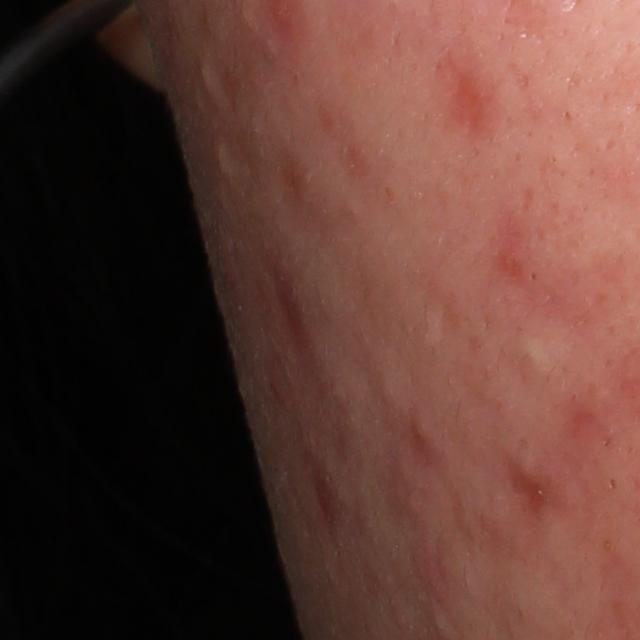comedo: (507, 327, 560, 386), (195, 64, 215, 94), (600, 470, 622, 497)
papule: (407, 416, 442, 459)
